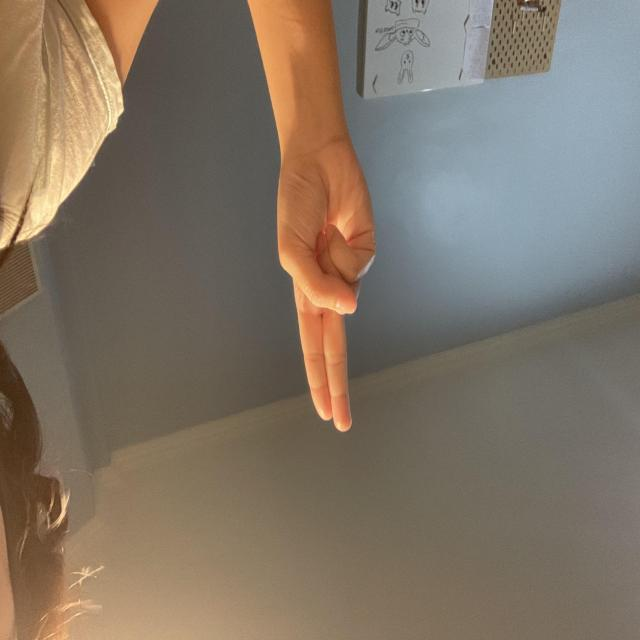U: (263, 208, 364, 504)
